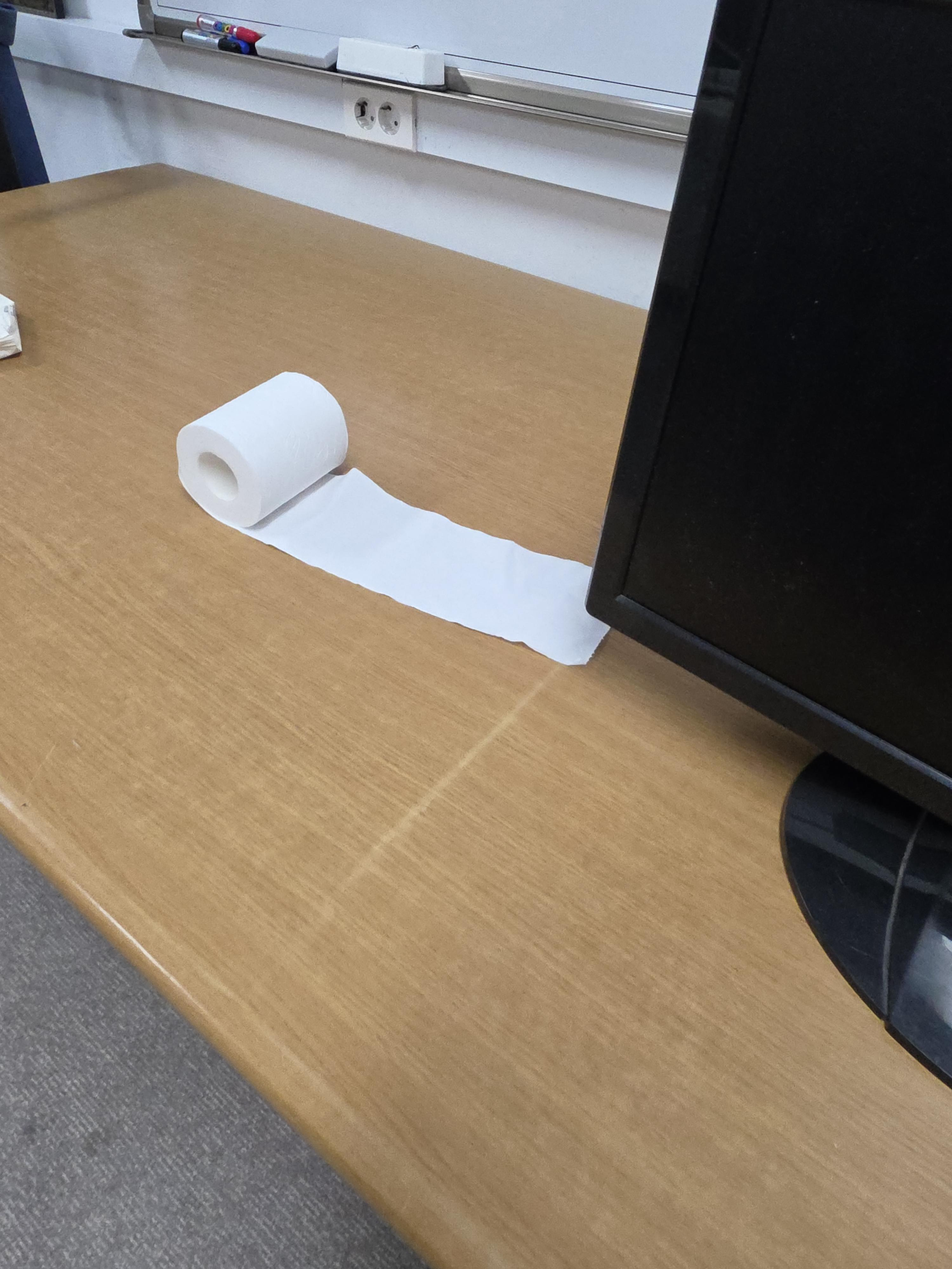tissue: (175, 371, 610, 666)
